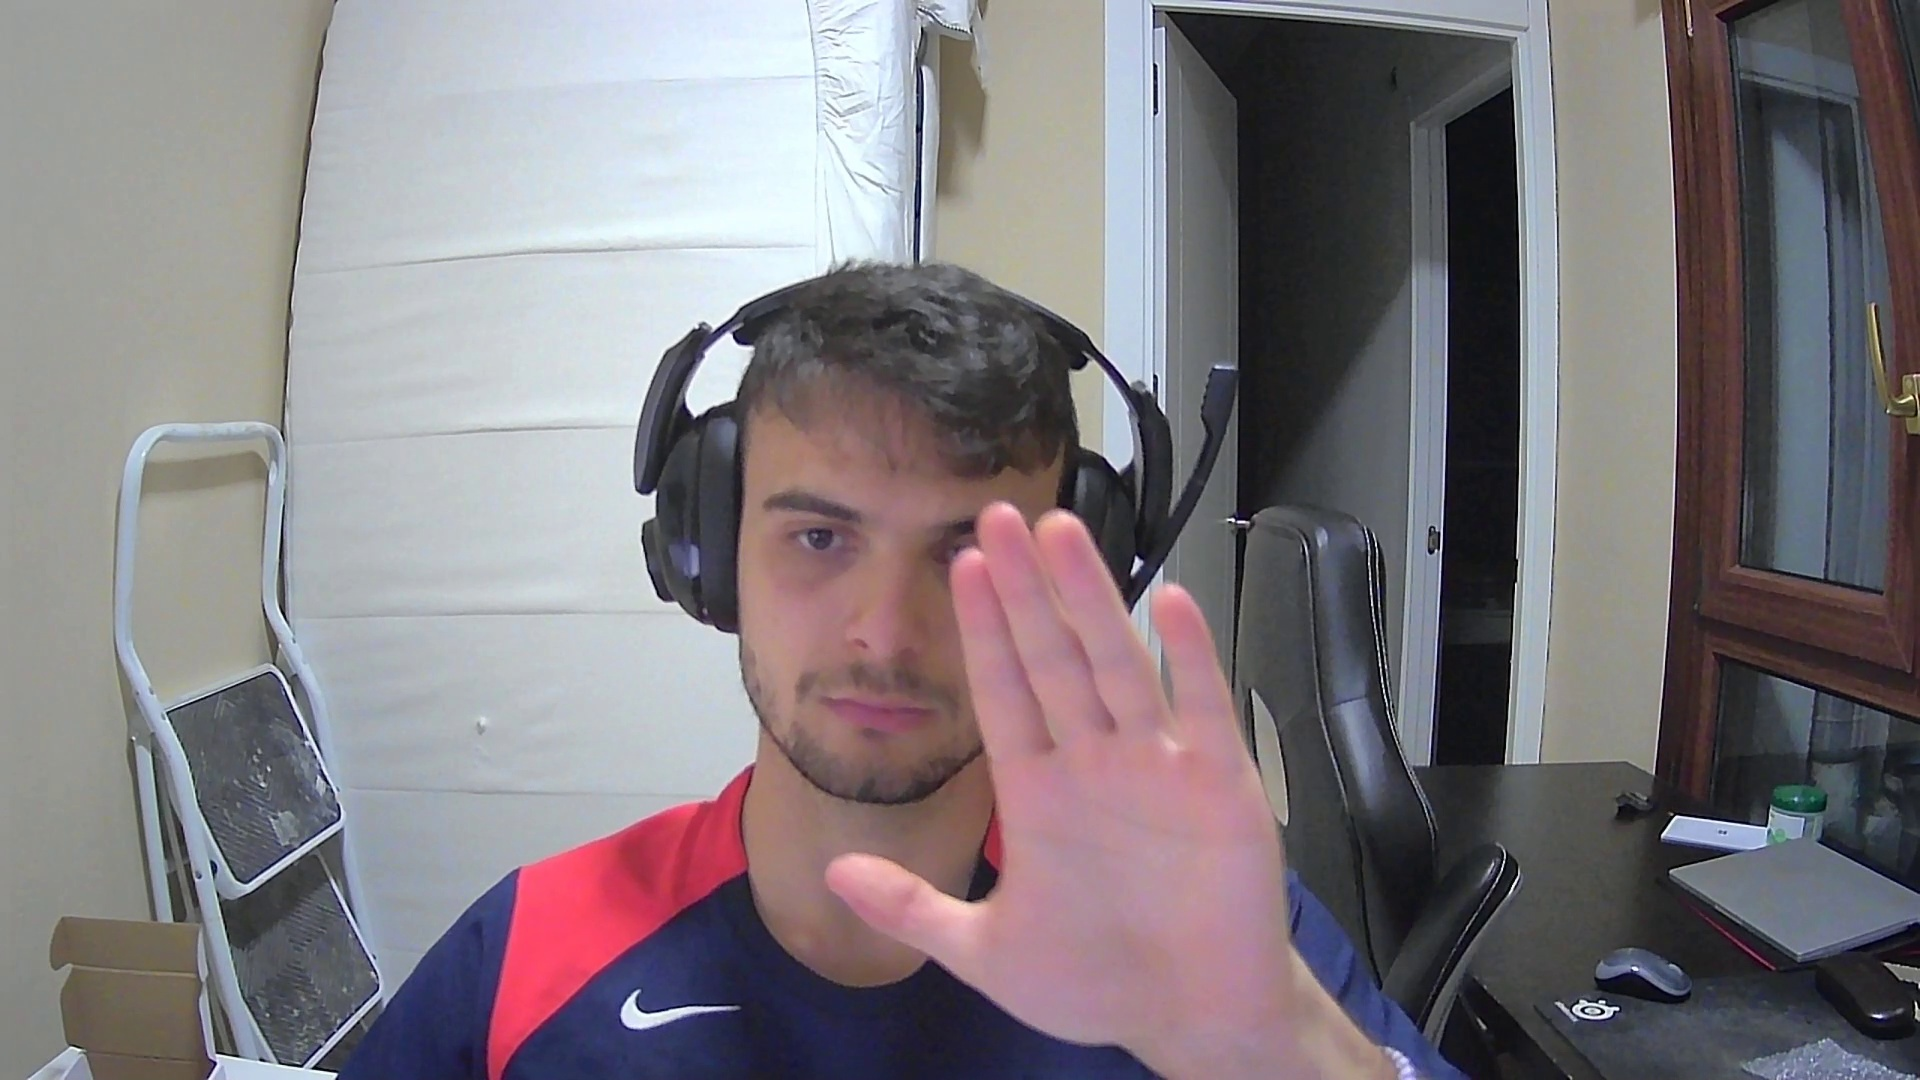Palm: (824, 498, 1307, 1046)
